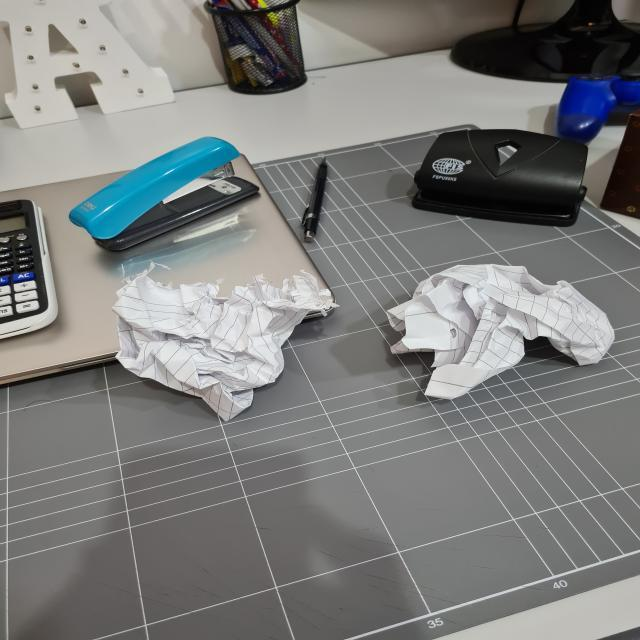Paper: (108, 271, 347, 423), (395, 265, 619, 396)
